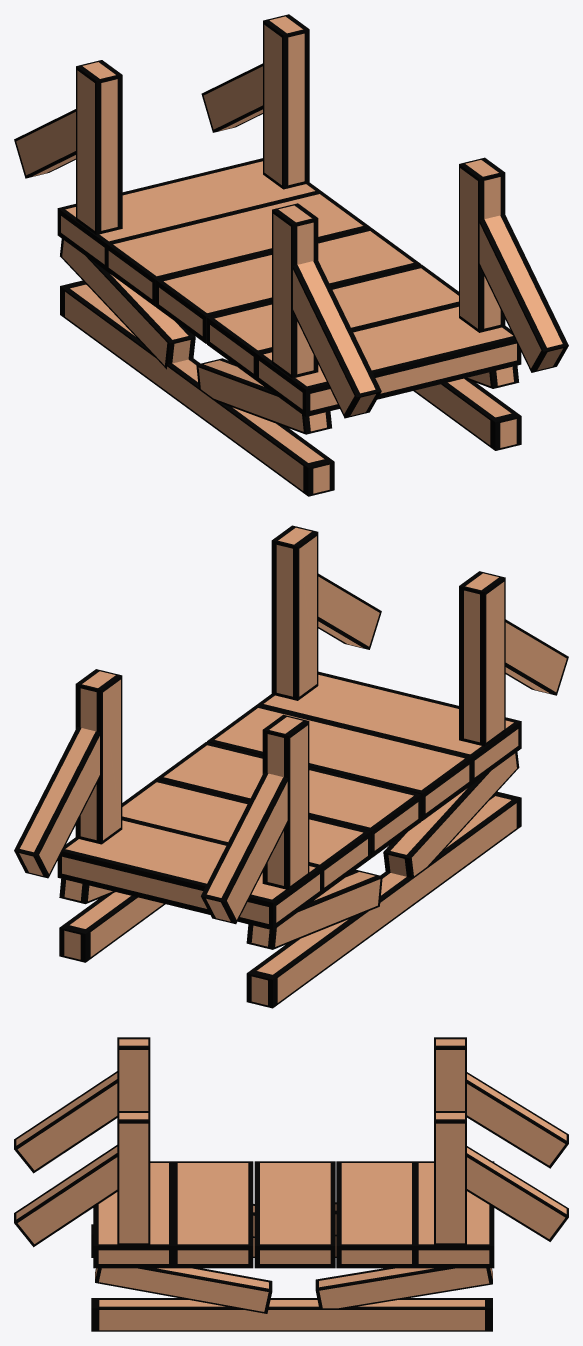
The model's file is CardboardPlatformBridge01.fbx.
The picture shows the model from 3 angles, top to bottom: view 1: azimuth 30°, elevation 25°; view 2: azimuth 150°, elevation 25°; view 3: azimuth 270°, elevation 25°; orthographic projection. The views are drawn at different scales.
Parts seen in each view (by area): view 1: Cube.031; view 2: Cube.031; view 3: Cube.031.
Part boxes in pixels (x1=…): Cube.031: x1=14, y1=14, x2=568, y2=496; Cube.031: x1=14, y1=525, x2=568, y2=1008; Cube.031: x1=14, y1=1037, x2=568, y2=1331.
Size of the model in its own units: 468 by 541 by 1292.
